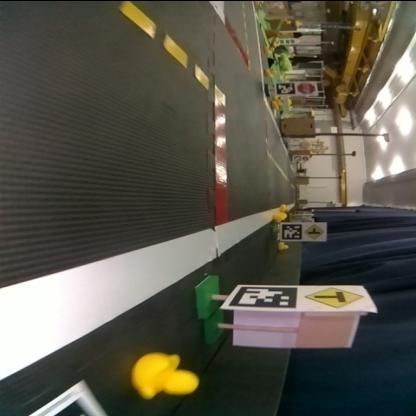Duckie: (132, 350, 200, 398), (275, 212, 287, 221), (266, 67, 277, 76), (272, 100, 284, 108), (280, 241, 289, 248), (265, 45, 275, 51), (276, 94, 284, 100), (282, 203, 288, 209)
Intersection sign: (304, 286, 366, 310), (305, 221, 325, 240)
QR code: (228, 284, 300, 308), (283, 222, 304, 238), (276, 82, 297, 92)
Stop sign: (298, 81, 317, 93)
